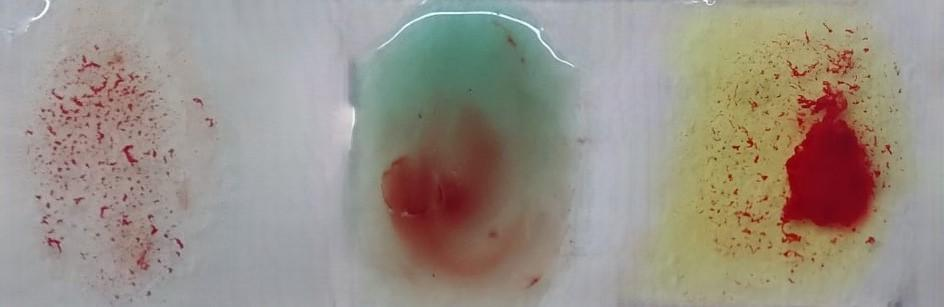B: (693, 11, 911, 307)
D: (21, 37, 182, 307)
